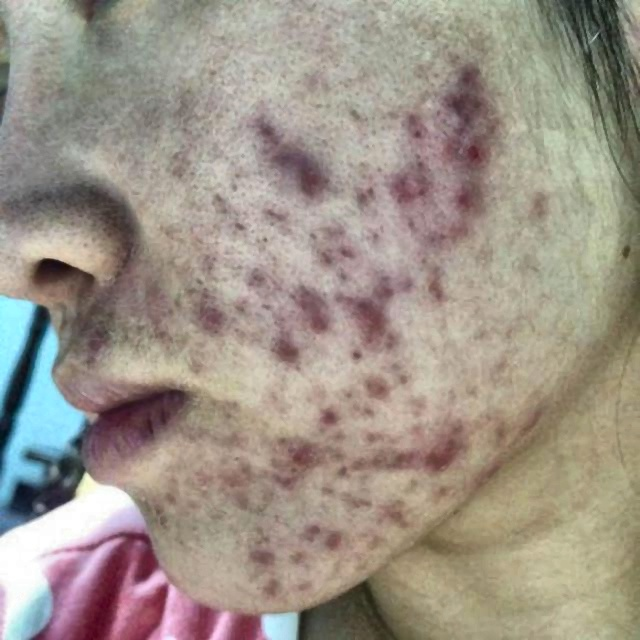papule: (346, 361, 400, 416), (438, 79, 490, 136), (438, 180, 491, 219), (392, 109, 434, 157), (245, 110, 290, 152), (463, 133, 499, 180), (414, 436, 458, 474), (449, 57, 489, 96), (348, 299, 391, 335), (196, 302, 232, 344), (233, 539, 272, 575), (366, 265, 406, 300), (321, 529, 359, 565), (329, 235, 368, 270), (503, 410, 547, 440), (390, 170, 429, 203), (306, 306, 342, 340), (276, 276, 311, 309), (289, 441, 320, 474), (236, 262, 269, 292), (262, 331, 289, 366), (302, 237, 330, 269), (347, 185, 385, 208), (269, 141, 297, 172), (366, 425, 388, 461), (415, 213, 438, 247), (287, 516, 319, 538), (262, 571, 280, 609), (378, 501, 404, 524), (422, 271, 444, 297), (344, 445, 366, 471), (307, 222, 345, 237), (388, 445, 409, 471), (320, 404, 341, 425), (297, 163, 319, 183)
